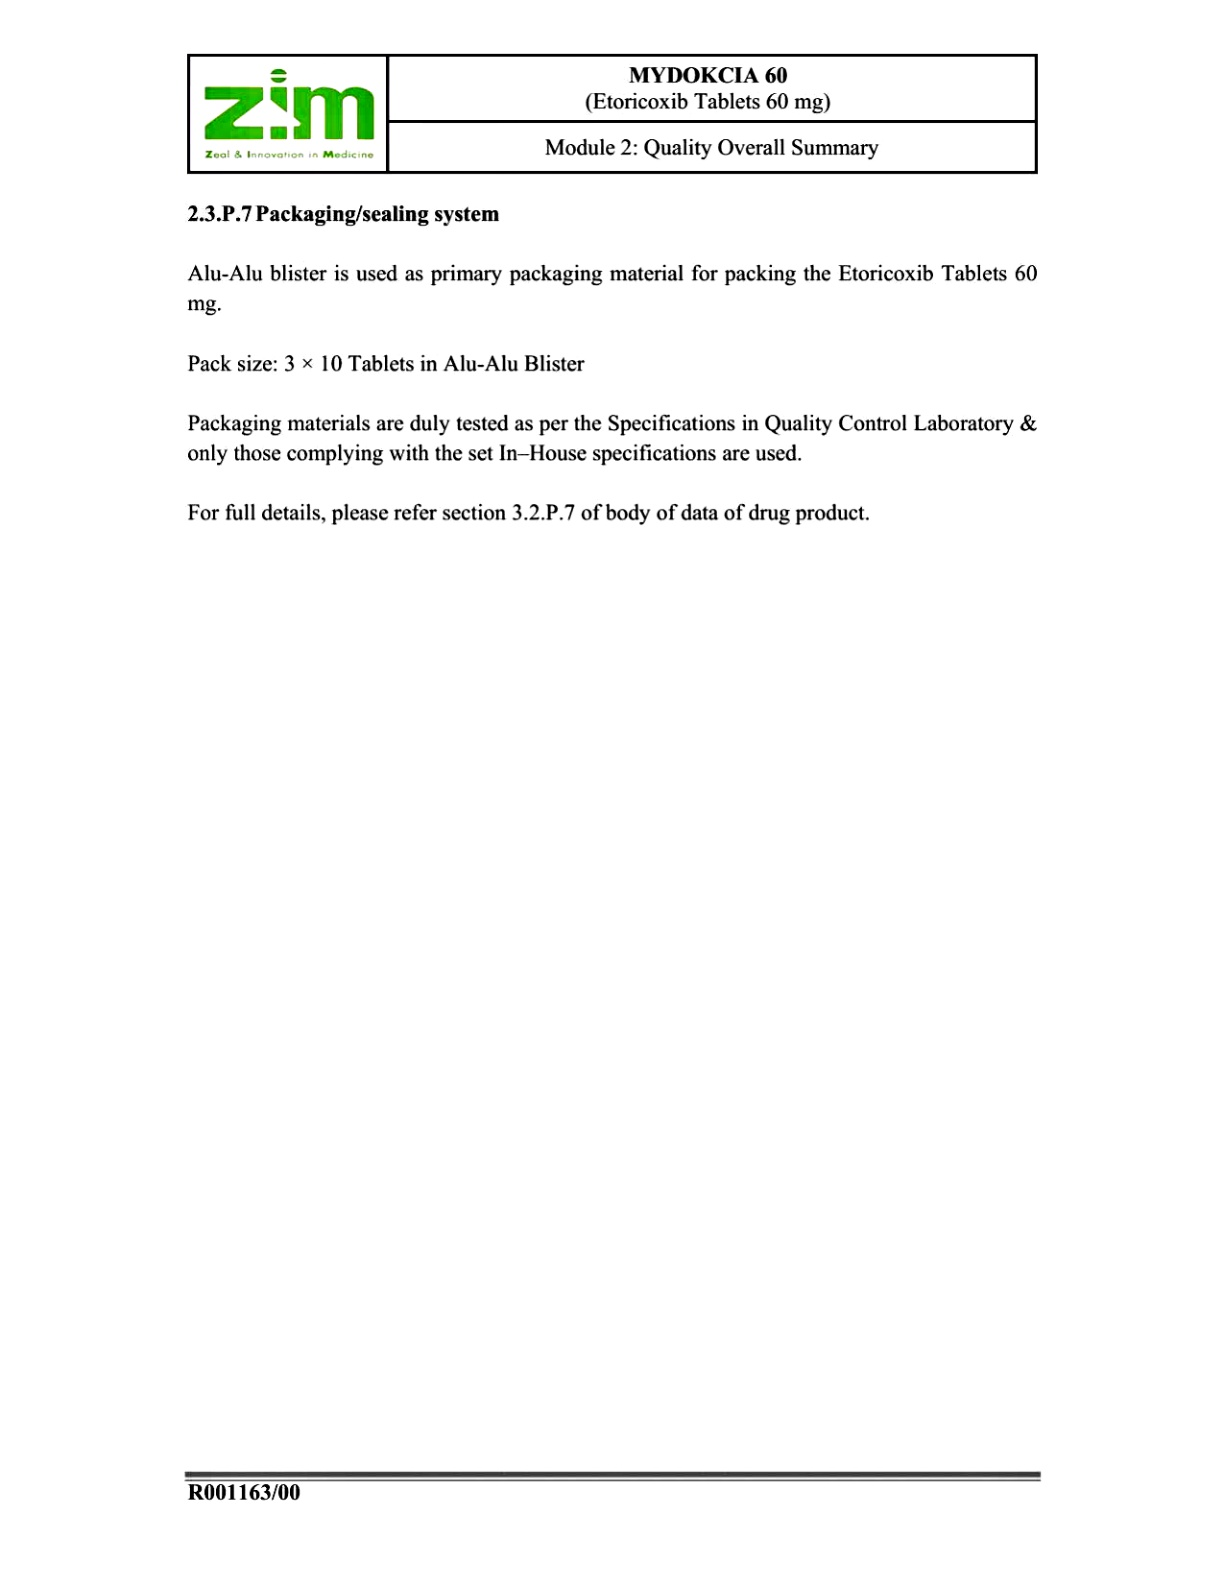merged_cells: (185, 53, 1038, 175)
